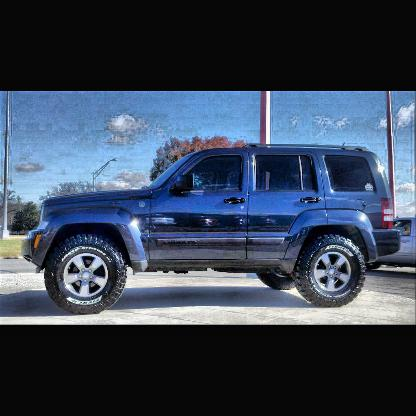Jeep Liberty SUV 2012: (23, 141, 404, 316)
